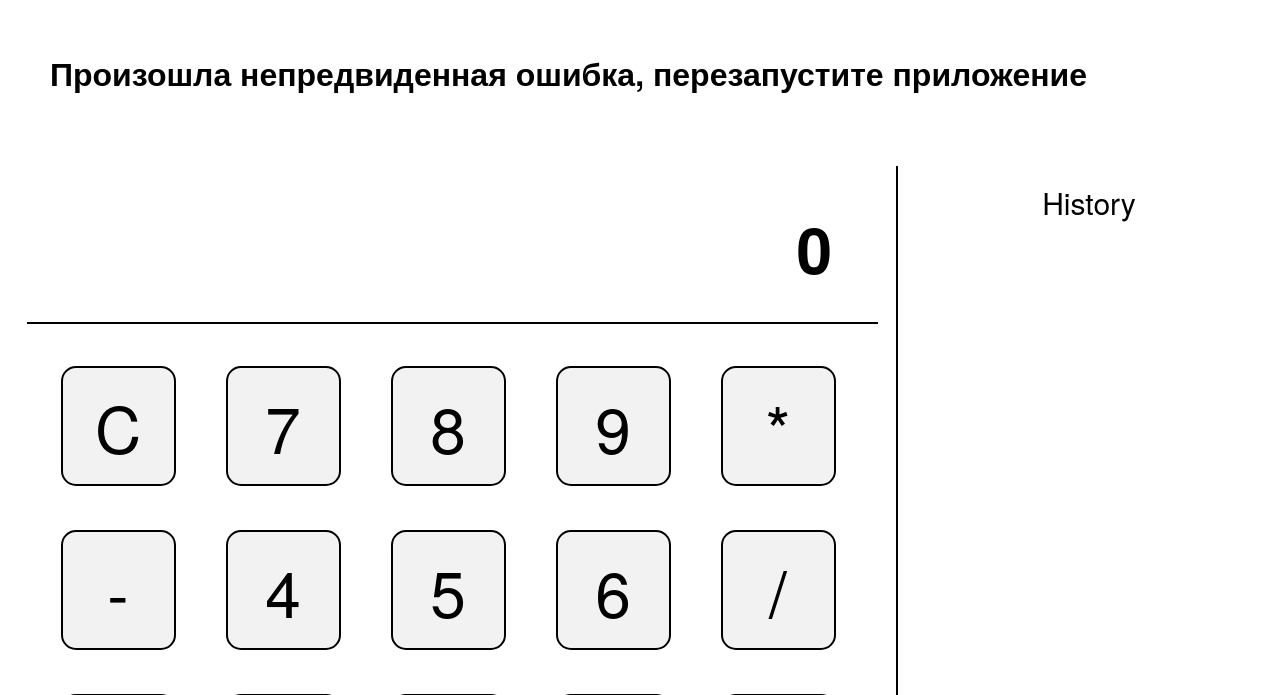
Home page › it check correct display multiple values
The image size is (1280, 695).
Click the button "5" at (449, 590), box x1=391 y1=530 x2=506 y2=650
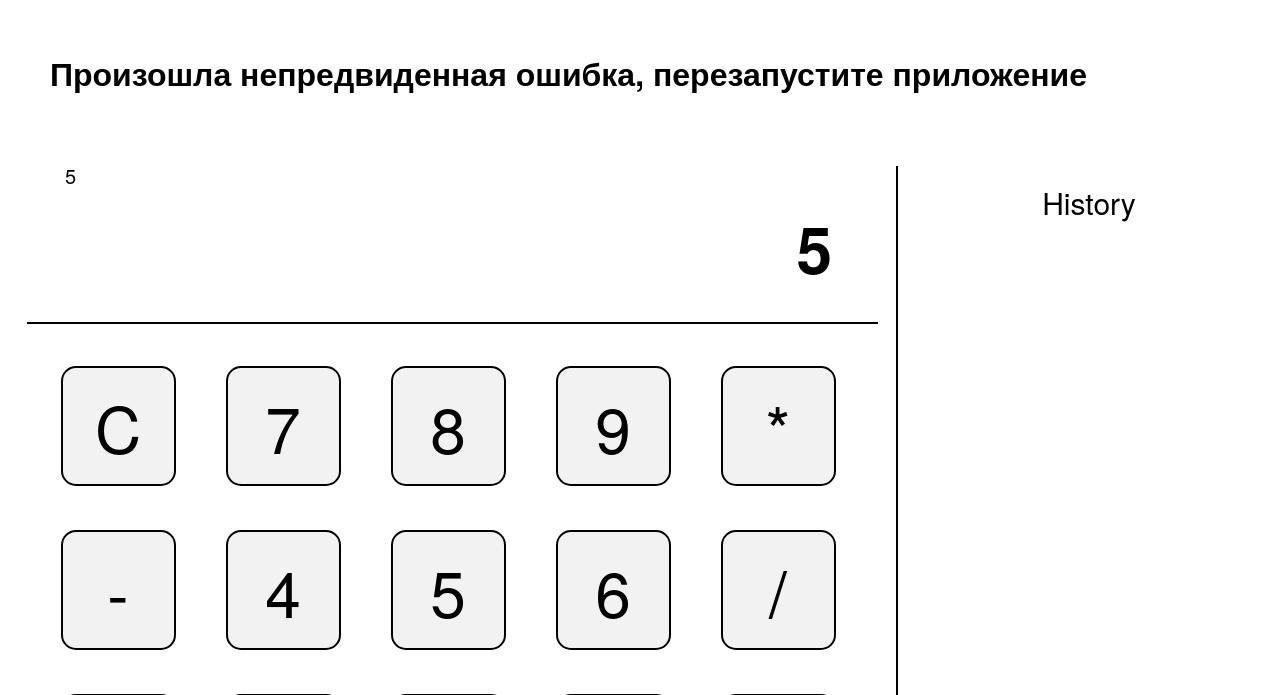
Click the button "6" at (614, 590), box x1=556 y1=530 x2=671 y2=650
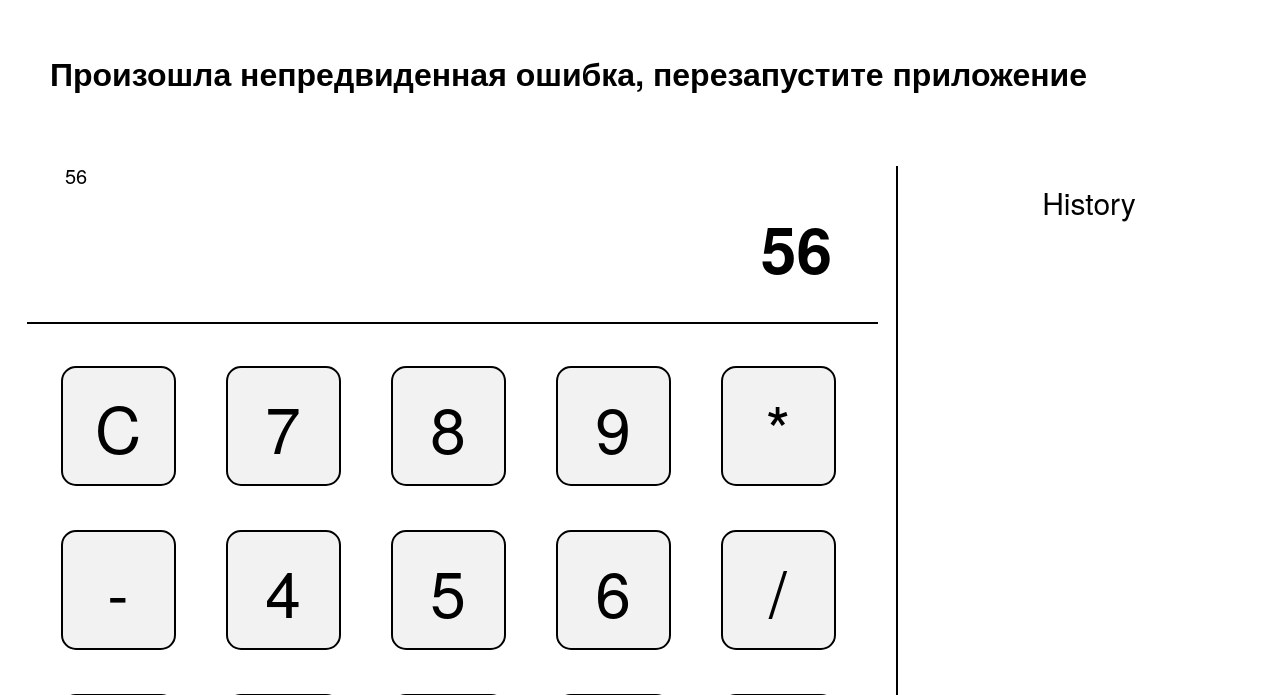
Now the text "56" is shown, box x1=65 y1=161 x2=87 y2=190
Now the heading "56" is shown, box x1=761 y1=202 x2=832 y2=294
